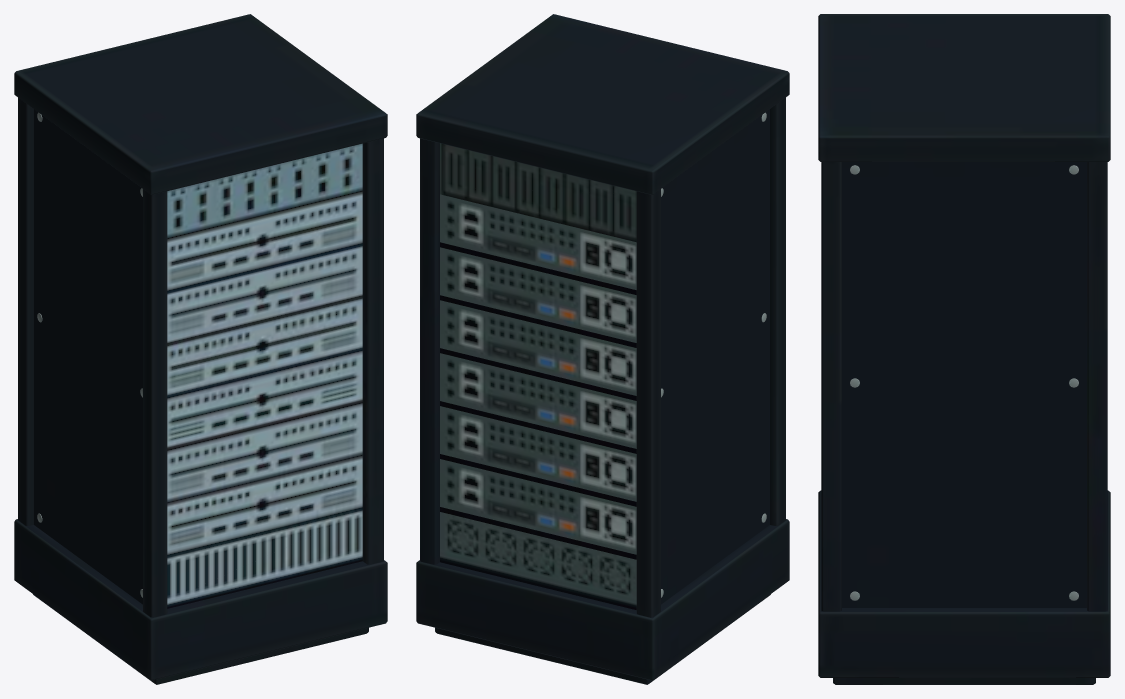
3 views of the same model, side by side, from view 1: azimuth 30°, elevation 25°; view 2: azimuth 150°, elevation 25°; view 3: azimuth 270°, elevation 25° (orthographic). The views are drawn at different scales.
Size of the model in its own units: 10 by 21 by 10.
2 materials, 2 textured.
